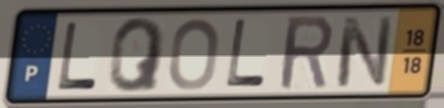L: (54, 20, 99, 92), (224, 18, 269, 90)
N: (333, 14, 396, 90)
O: (167, 16, 223, 93)
Q: (106, 15, 168, 95)
R: (278, 13, 336, 94)
